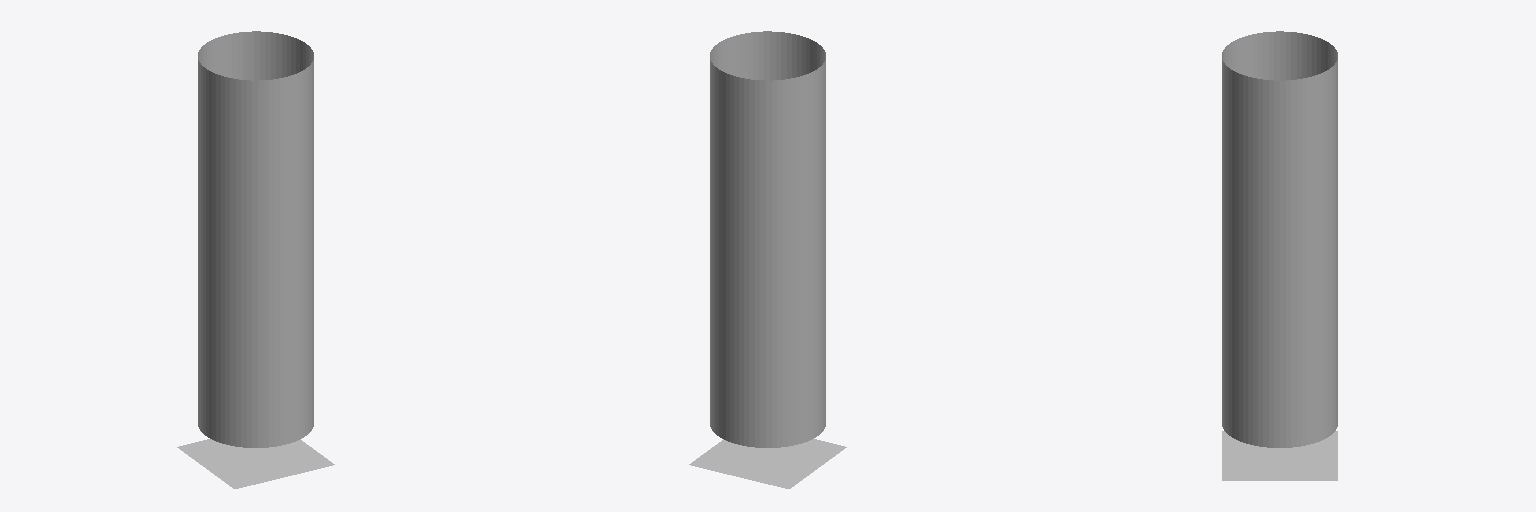
The model's file is tunnel3.obj.
3 views of the same model, side by side, from view 1: azimuth 30°, elevation 25°; view 2: azimuth 150°, elevation 25°; view 3: azimuth 270°, elevation 25° (orthographic).
Parts seen in each view (by area): view 1: Cylinder, Plane; view 2: Cylinder, Plane; view 3: Cylinder, Plane.
Part boxes in pixels (bbox=[...]): Cylinder: bbox=[198, 31, 313, 447]; Plane: bbox=[177, 439, 334, 488]; Cylinder: bbox=[710, 31, 825, 447]; Plane: bbox=[689, 439, 846, 488]; Cylinder: bbox=[1222, 31, 1337, 447]; Plane: bbox=[1222, 431, 1337, 480].
Bounding box in the file's own units: 2 × 7.58 × 2.